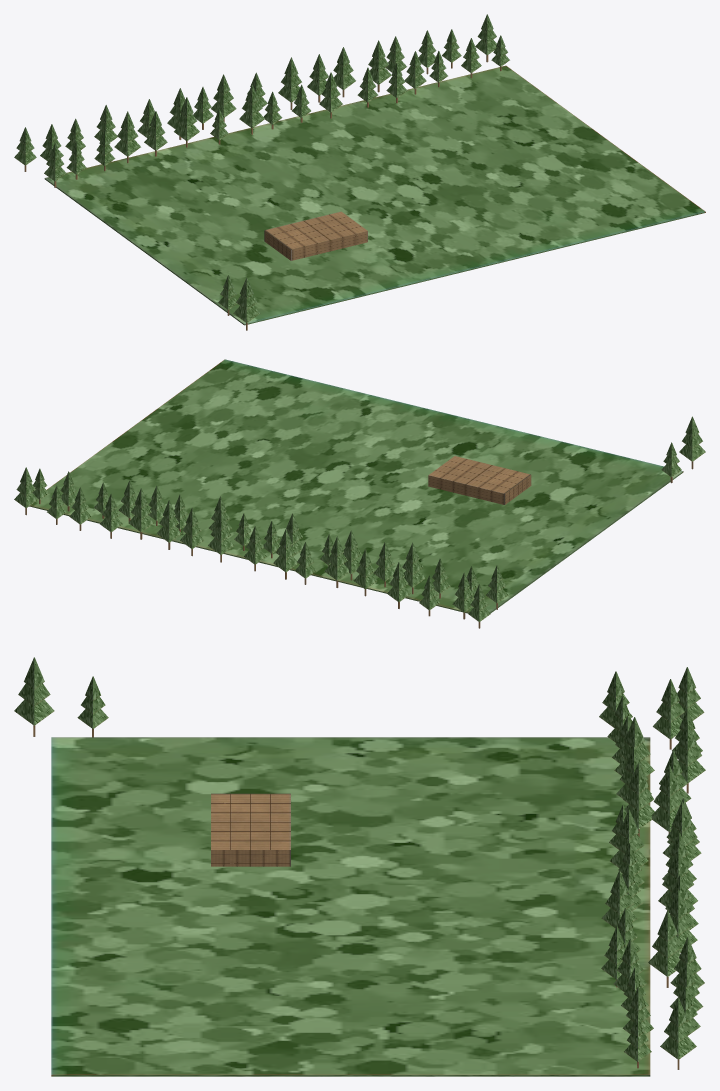
3 views of the same model, one above another, from view 1: azimuth 30°, elevation 25°; view 2: azimuth 150°, elevation 25°; view 3: azimuth 270°, elevation 25° (orthographic). The views are drawn at different scales.
Parts seen in each view (by area): view 1: lod2_misc, lod2_wood; view 2: lod2_misc, lod2_wood; view 3: lod2_misc, lod2_wood.
Part boxes in pixels (box(x1,y1,x2,y2)): lod2_misc: box(14, 14, 705, 325); lod2_wood: box(24, 55, 501, 330); lod2_misc: box(14, 359, 705, 621); lod2_wood: box(25, 456, 693, 628); lod2_misc: box(14, 657, 705, 1076); lod2_wood: box(33, 725, 688, 1069).
Size of the model in its own units: 124 by 13.09 by 104.
Materials: 3 (3 with a texture image).
